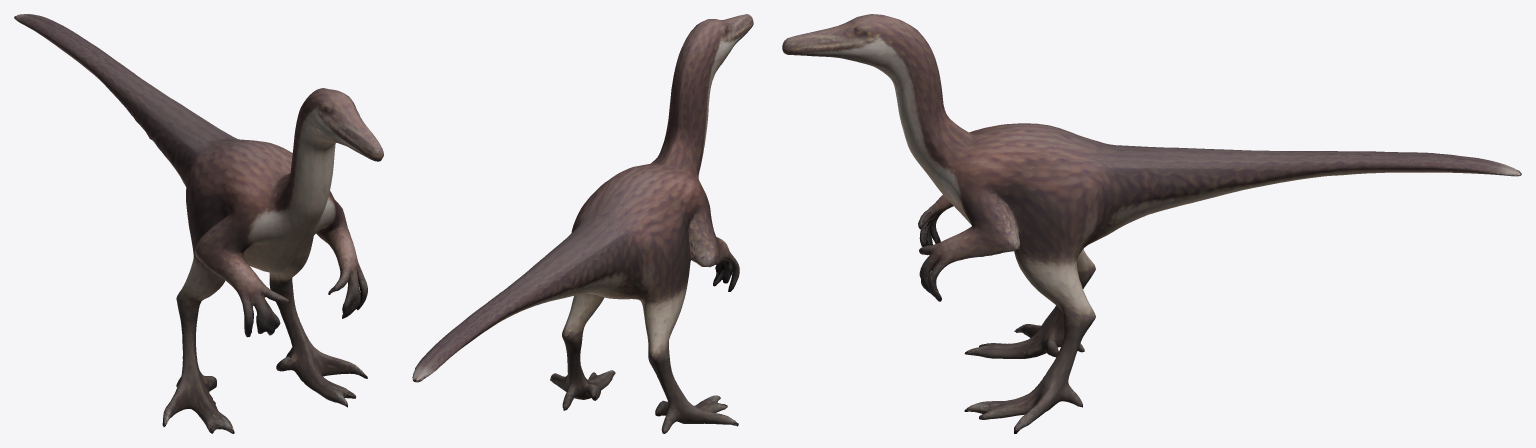
The picture shows the model from 3 angles, left to right: view 1: azimuth 30°, elevation 25°; view 2: azimuth 150°, elevation 25°; view 3: azimuth 270°, elevation 25°; orthographic projection. The views are drawn at different scales.
Parts seen in each view (by area): view 1: geometry_0; view 2: geometry_0; view 3: geometry_0.
Boxes of the visible parts, x1,y1,x2,y2 form: geometry_0: (14,14,383,433); geometry_0: (412,14,753,433); geometry_0: (782,14,1521,433).
Bounding box in the file's own units: 0.2434 × 0.4146 × 0.75.
Materials: 1 (1 with a texture image).
